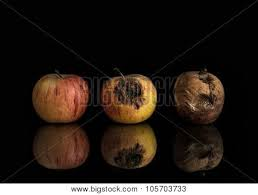damaged_apple: (102, 73, 159, 125), (32, 74, 90, 121), (32, 125, 90, 169), (102, 127, 160, 171), (173, 125, 226, 173), (174, 71, 224, 121)
